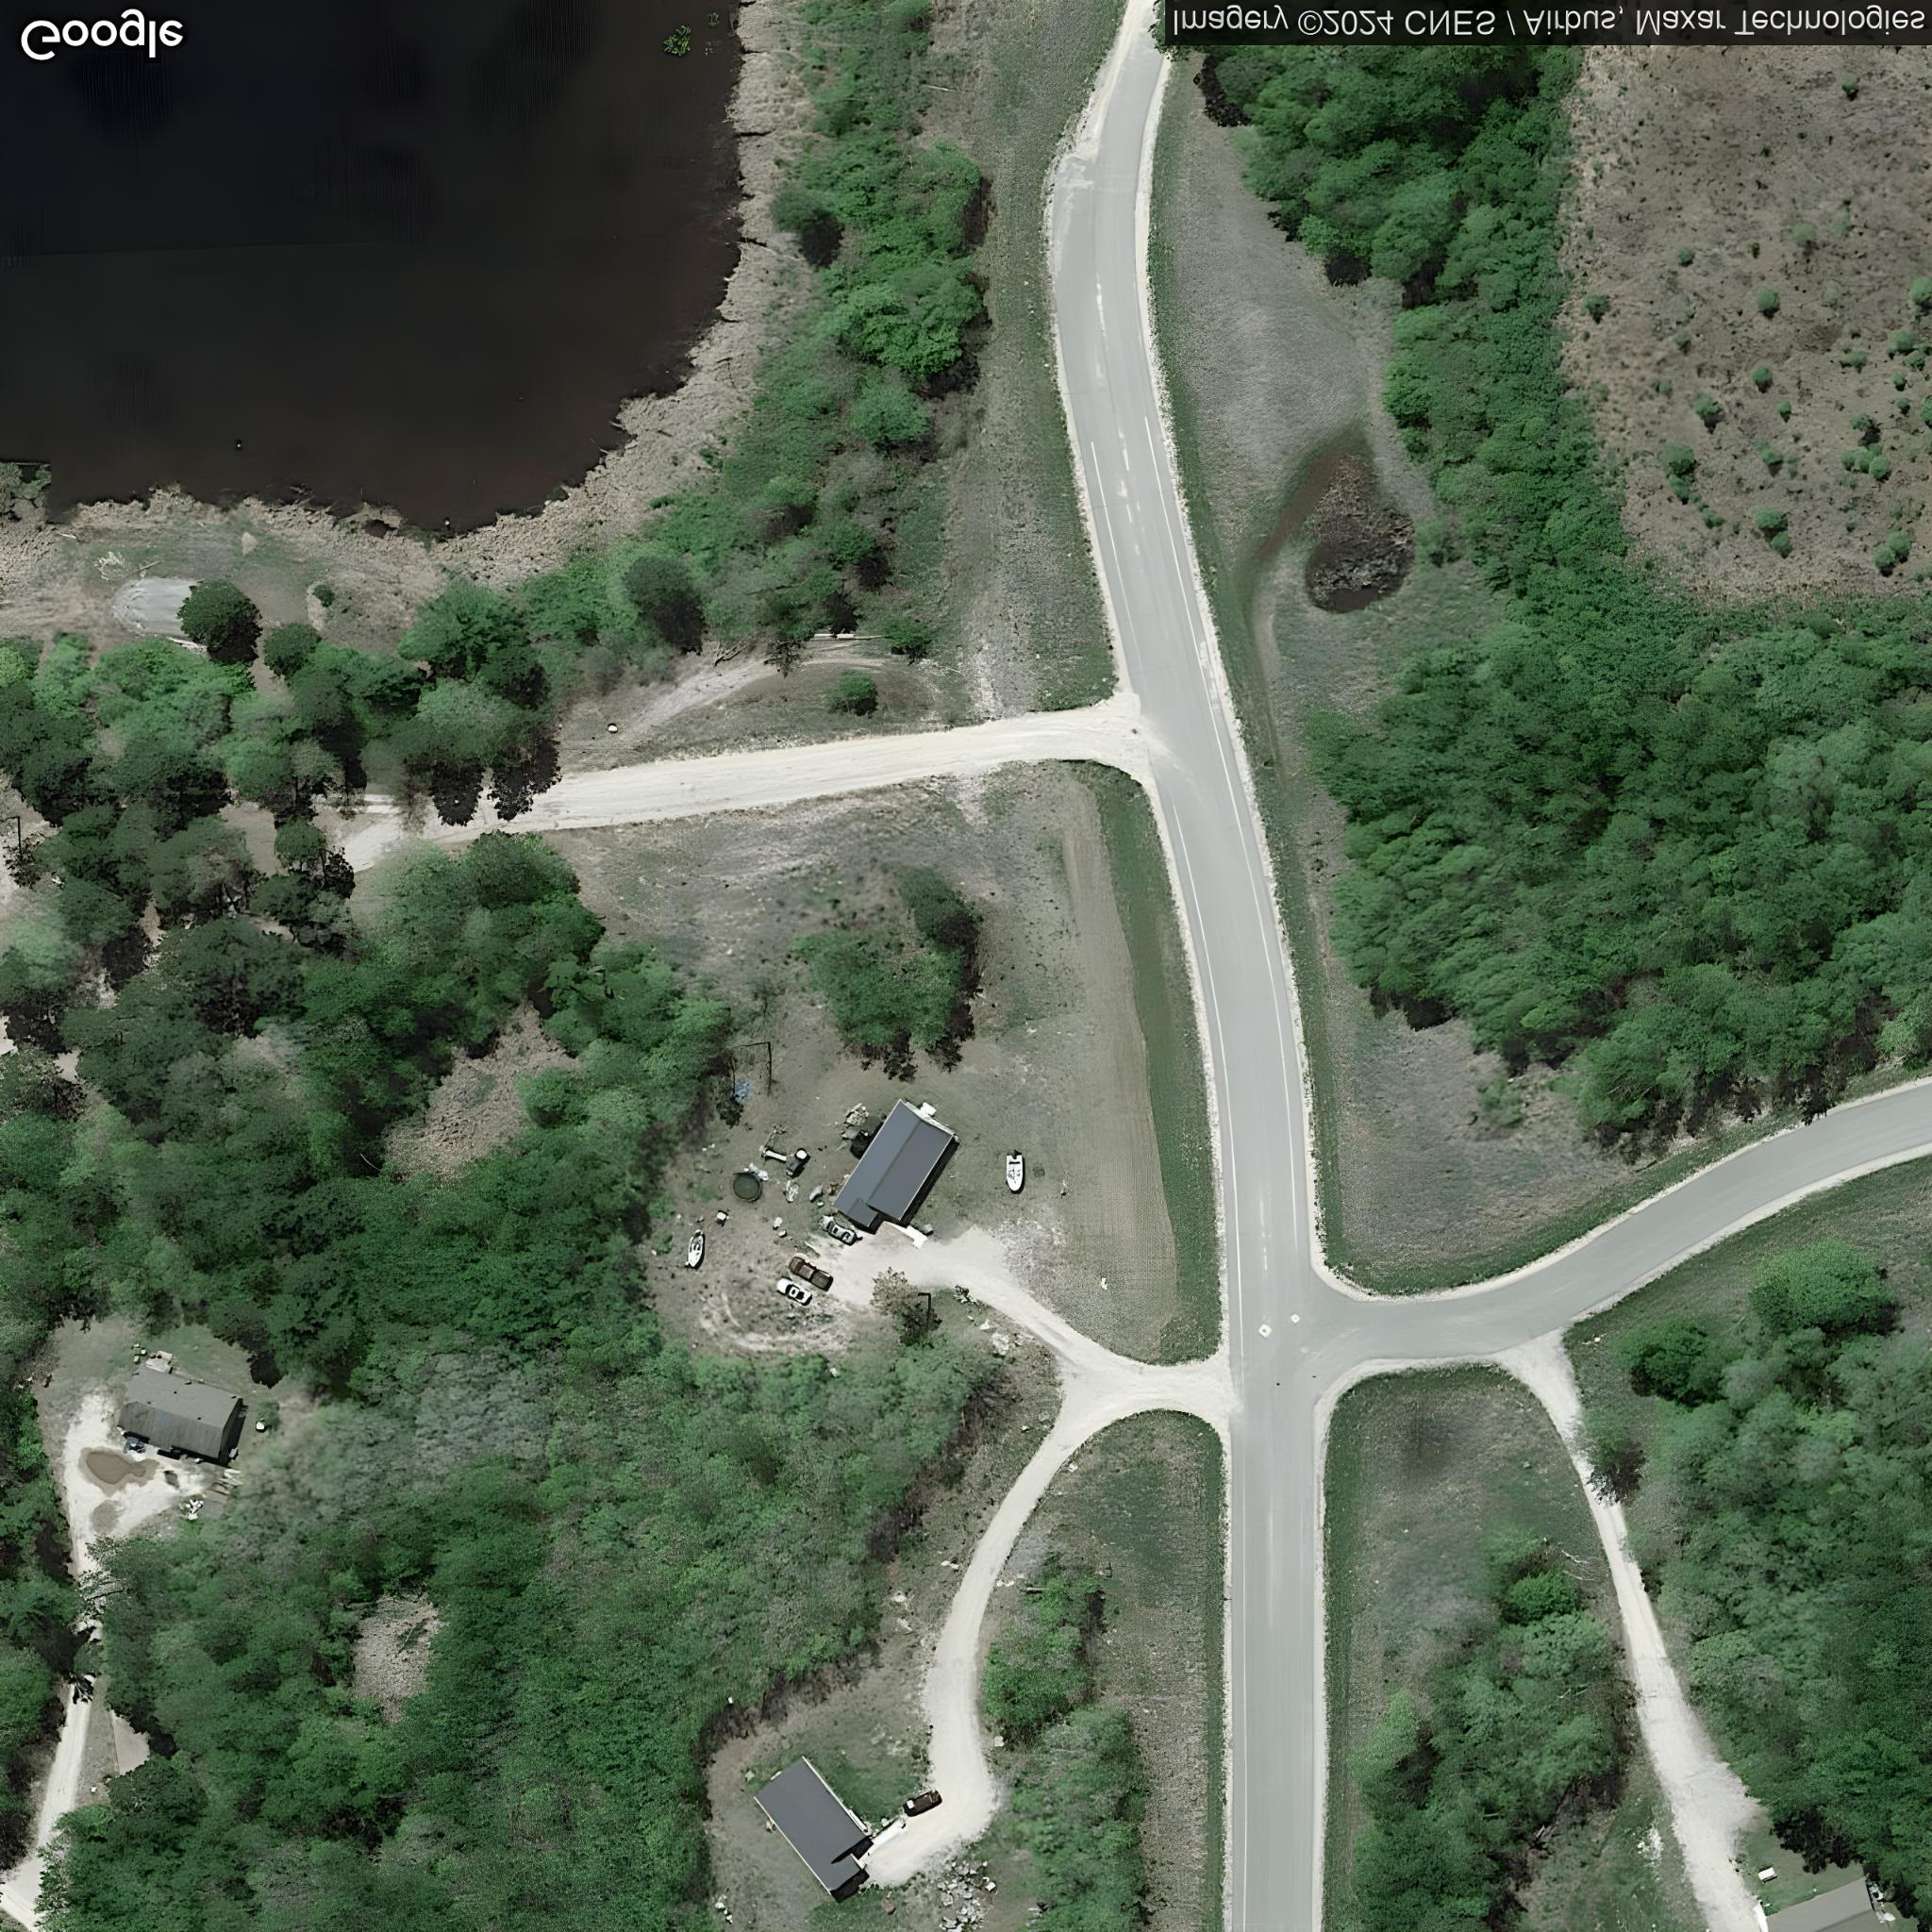House: (750, 1753, 870, 1898), (832, 1097, 955, 1230), (115, 1364, 244, 1463), (1766, 1875, 1884, 1930)
